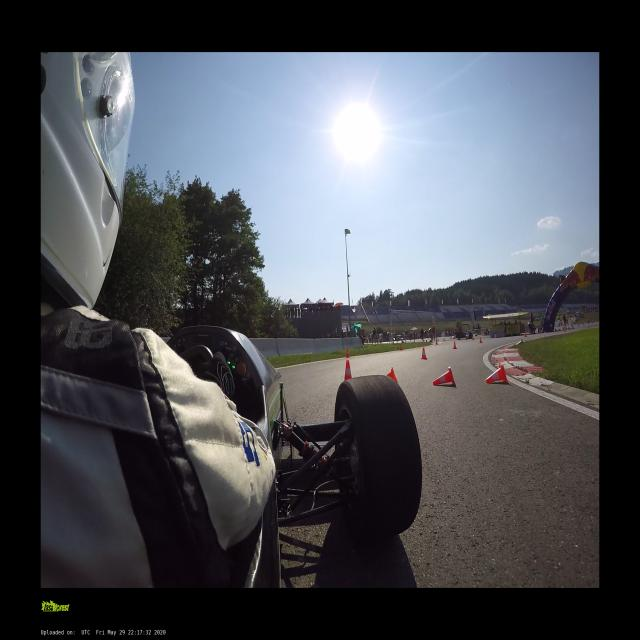orange_cone: (432, 366, 458, 388), (485, 363, 509, 383), (384, 368, 398, 385), (342, 361, 352, 379), (421, 347, 428, 359), (346, 349, 350, 357), (453, 341, 457, 349), (400, 344, 402, 350), (480, 337, 482, 342), (494, 334, 496, 338), (525, 332, 526, 336)
